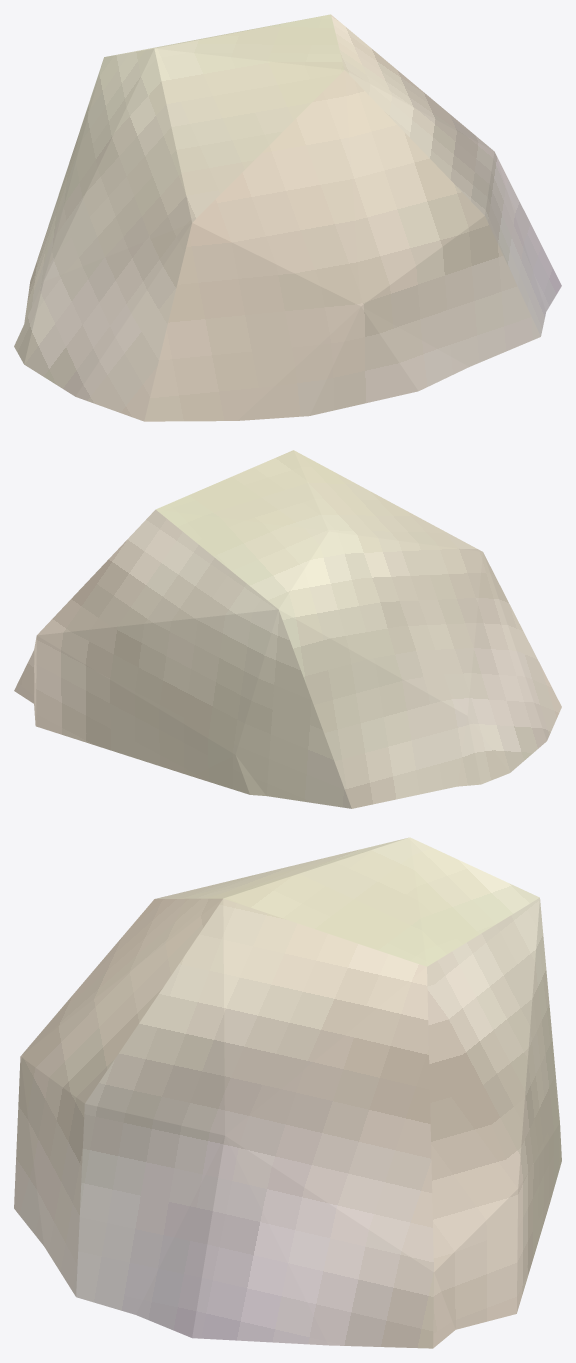
Rendered from Tile_+004_+000_L22_00031000.glb.
The picture shows the model from 3 angles, top to bottom: view 1: azimuth 30°, elevation 25°; view 2: azimuth 150°, elevation 25°; view 3: azimuth 270°, elevation 25°; orthographic projection. The views are drawn at different scales.
Parts seen in each view (by area): view 1: rtc; view 2: rtc; view 3: rtc.
Part boxes in pixels (x1,y1,x2,y2): rtc: [14, 14, 561, 421]; rtc: [14, 450, 561, 808]; rtc: [14, 837, 561, 1348].
Bounding box in the file's own units: 0.7289 × 0.3565 × 0.5595.
Materials: 1 (1 with a texture image).
